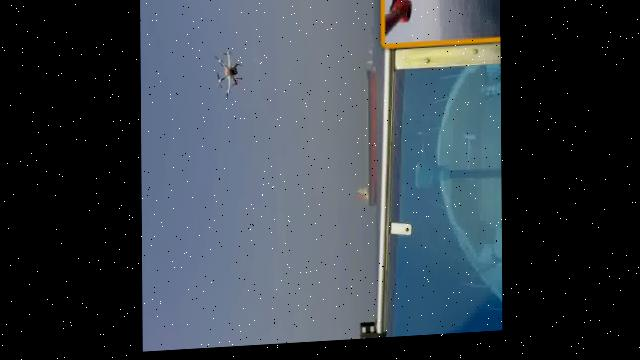drone: (206, 45, 247, 102)
